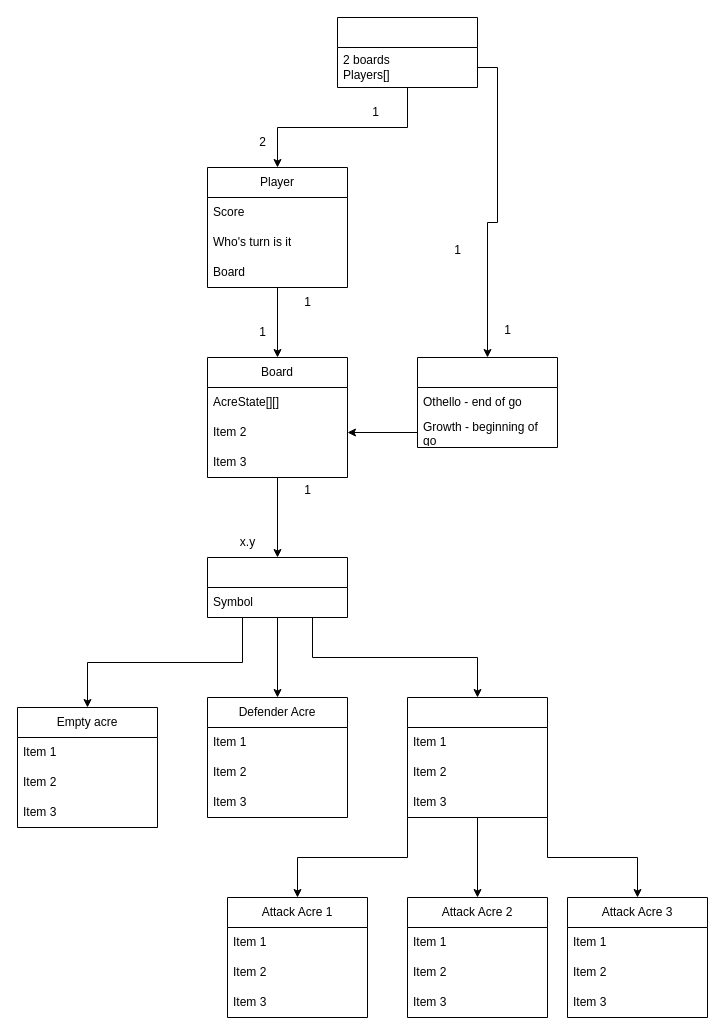
The diagram is 725 pixels wide and 1035 high, and some of its shapes have lost their labels. Each missing label, with the box of its shape:
AcreState: (206, 556, 348, 618)
Attack Acre: (406, 696, 548, 818)
Game: (336, 16, 478, 88)
Maths backend: (416, 356, 558, 448)
